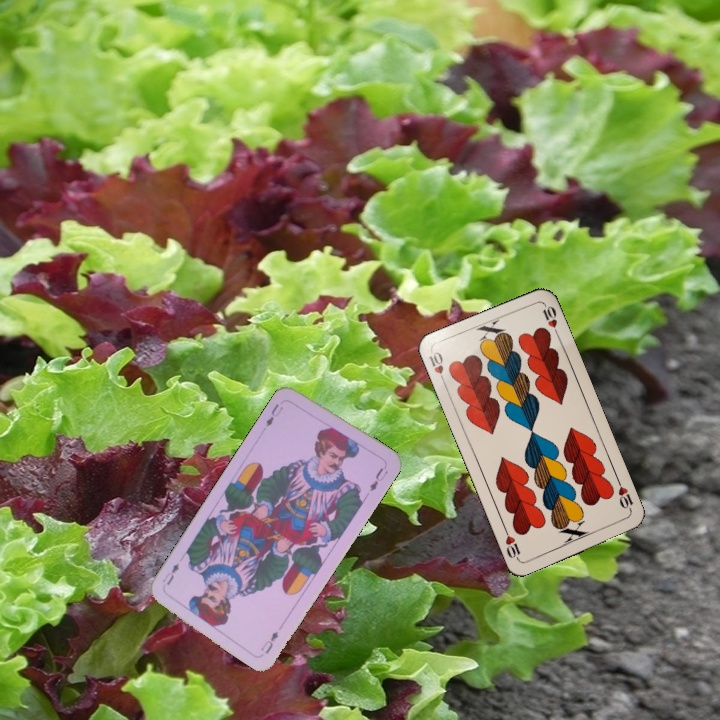EU: (261, 400, 285, 430), (257, 627, 281, 656)
H10: (424, 347, 448, 387), (613, 475, 636, 514)
